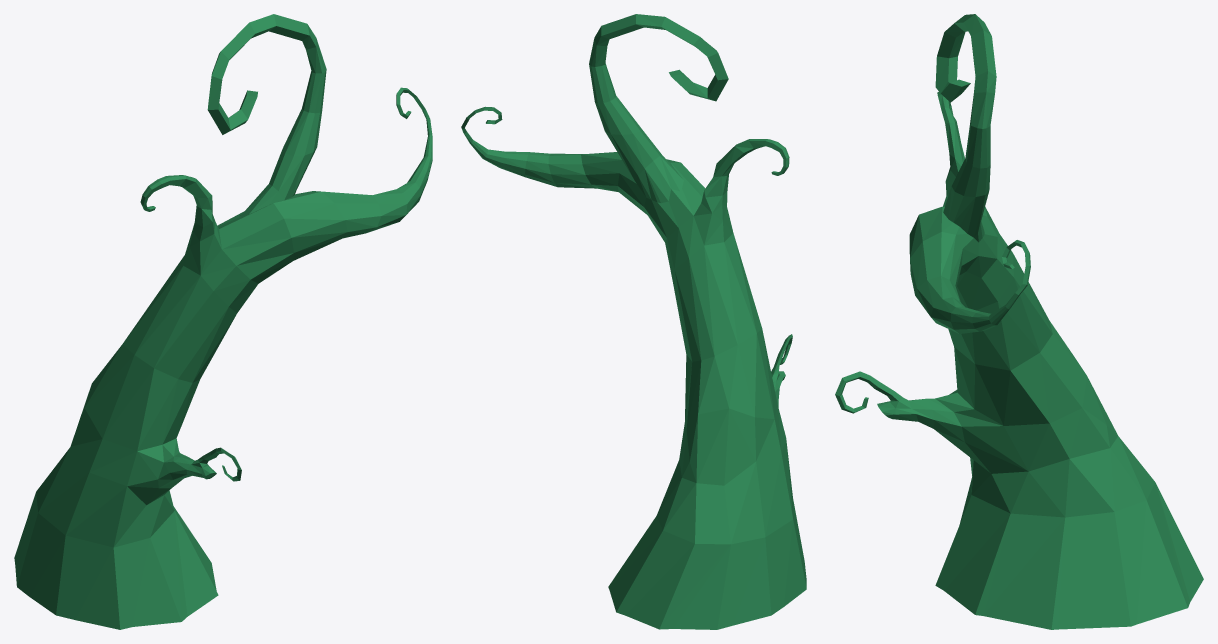
File: Vegetation_Vine_Tree_Thorns_Trunk_Green_01.FBX
The picture shows the model from 3 angles, left to right: view 1: azimuth 30°, elevation 25°; view 2: azimuth 150°, elevation 25°; view 3: azimuth 270°, elevation 25°; orthographic projection. The views are drawn at different scales.
Visible parts, largest first — view 1: Vegetation_Vine_Tree_Thorns_Trunk_Green_01; view 2: Vegetation_Vine_Tree_Thorns_Trunk_Green_01; view 3: Vegetation_Vine_Tree_Thorns_Trunk_Green_01.
Part boxes in pixels (x1,y1,x2,y2): Vegetation_Vine_Tree_Thorns_Trunk_Green_01: [14, 14, 432, 629]; Vegetation_Vine_Tree_Thorns_Trunk_Green_01: [461, 14, 806, 629]; Vegetation_Vine_Tree_Thorns_Trunk_Green_01: [835, 14, 1203, 629].
Size of the model in its own units: 3847 by 5549 by 3004.
